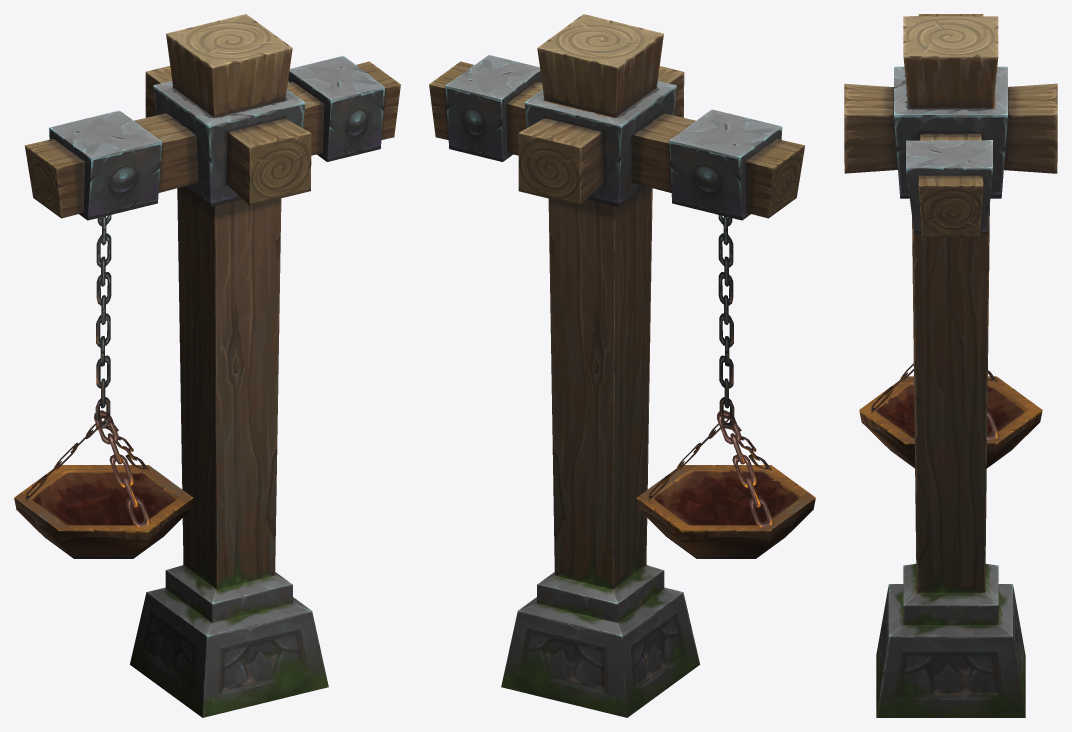
The model's file is fb_lyhg_zj_12.FBX.
3 renders of one model, left to right at view 1: azimuth 30°, elevation 25°; view 2: azimuth 150°, elevation 25°; view 3: azimuth 270°, elevation 25°, orthographic. The views are drawn at different scales.
Parts seen in each view (by area): view 1: fb_lyhg_zj_12; view 2: fb_lyhg_zj_12; view 3: fb_lyhg_zj_12.
Boxes of the visible parts, x1,y1,x2,y2 form: fb_lyhg_zj_12: (14, 14, 400, 717); fb_lyhg_zj_12: (429, 14, 815, 717); fb_lyhg_zj_12: (844, 14, 1057, 717).
Size of the model in its own units: 377 by 656 by 195.
